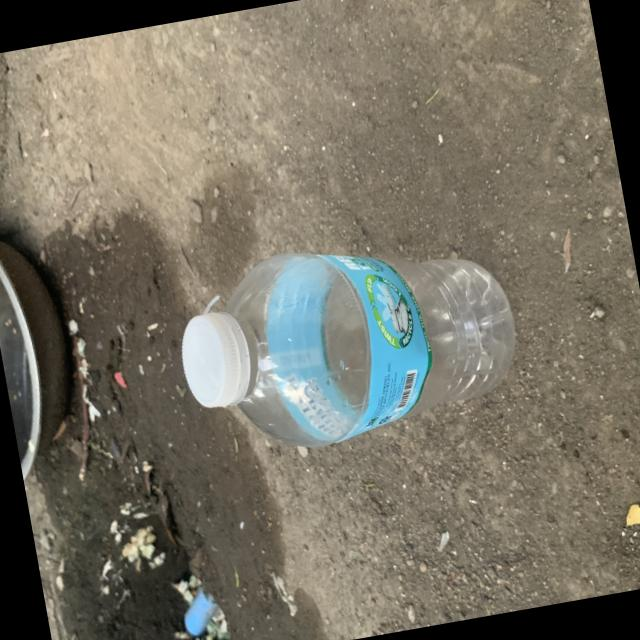Bottle: (182, 252, 515, 446)
